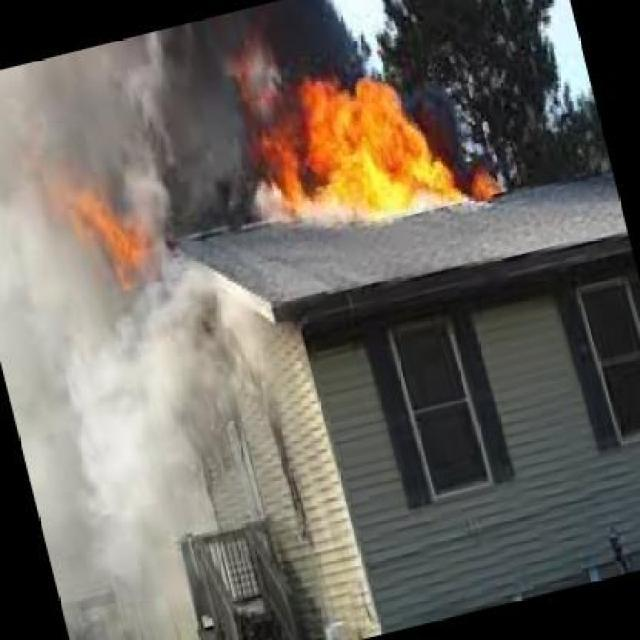Fire: (250, 73, 508, 232), (55, 186, 151, 286)
Smoke: (14, 291, 288, 615), (5, 46, 242, 182)
